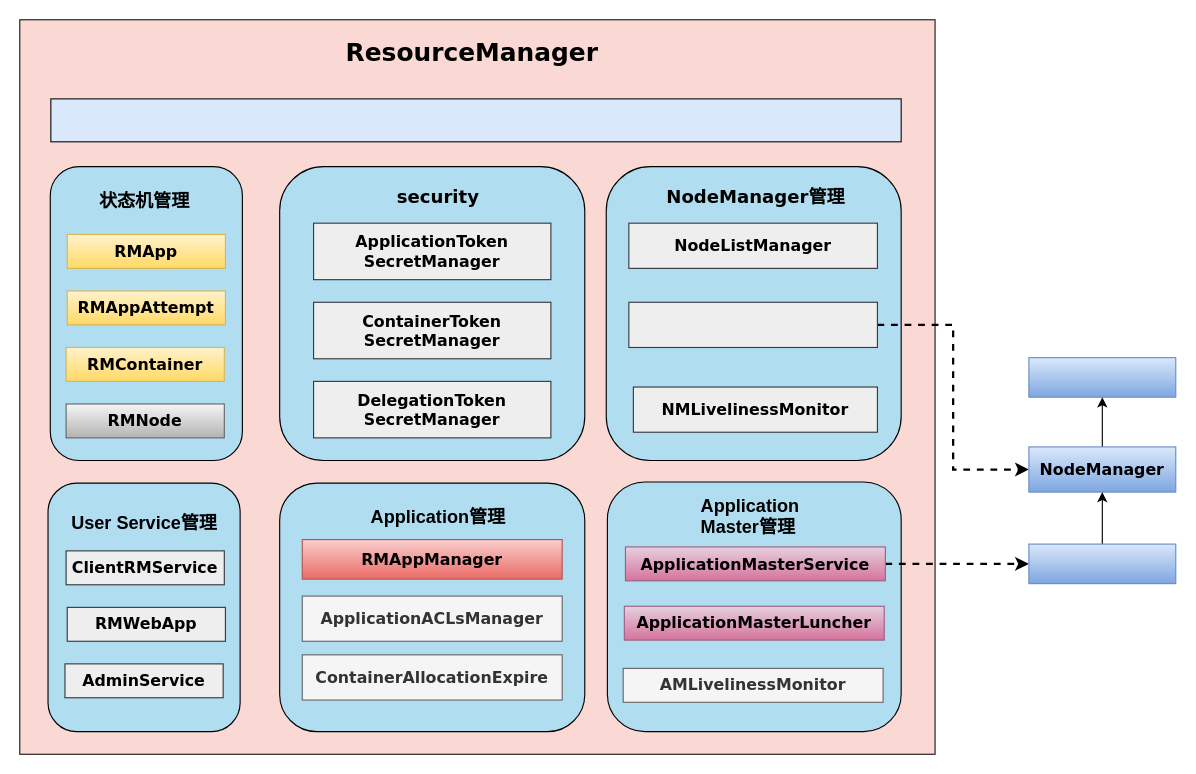
The diagram is 1196 pixels wide and 774 high, and some of its shapes have lost their labels. The centre of each missing label's shape, as x and y in pixels:
AppMaster: the point at 1102,563
Container: the point at 1102,377
ResourceScheduler: the point at 475,120
ResourceTrackerService: the point at 752,324
